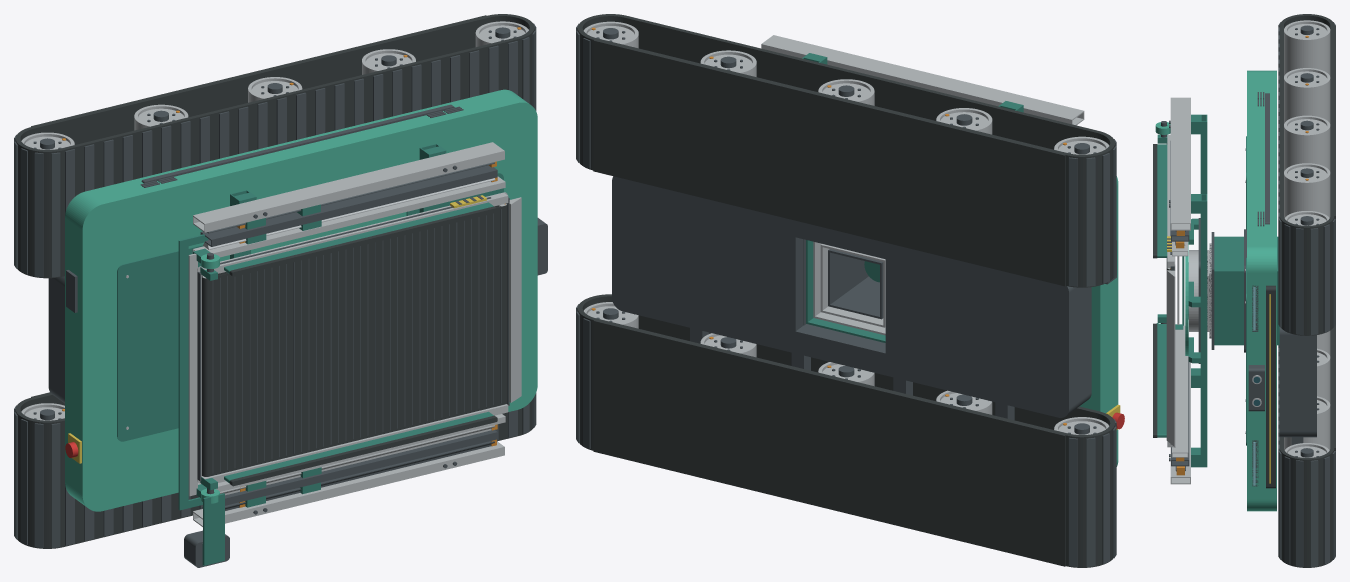
File: bellybot_reference_pose.glb
3 views of the same model, side by side, from view 1: azimuth 30°, elevation 25°; view 2: azimuth 150°, elevation 25°; view 3: azimuth 270°, elevation 25° (orthographic). The views are drawn at different scales.
Parts seen in each view (by area): view 1: tray_belt_loop, teal_body_shell, left_track_belt, left_tread_pads, access_lid_-420, tray_belt_texture, right_tread_pads, fixed_extension_rail_410, right_track_belt, middle_slide_363, fixed_extension_rail_-410, middle_stage_cross_tie (+25 smaller); view 2: left_continuous_floor_shoe, right_continuous_floor_shoe, lower_chassis, left_track_belt, right_track_belt, left_tread_pads, right_tread_pads, fixed_extension_rail_410, teal_body_shell, mast_stage_3, mast_stage_2, mast_outer (+5 smaller); view 3: teal_body_shell, left_track_belt, left_tread_pads, right_tread_pads, lower_chassis, right_track_belt, mast_outer, fixed_extension_rail_410, carrier_lower_crossbeam_275, left_wheel_2_rim, left_wheel_0_rim, left_wheel_1_rim (+30 smaller).
Part boxes in pixels (x1,y1,x2,y2): tray_belt_loop: (202, 203, 507, 476); teal_body_shell: (65, 89, 537, 511); left_track_belt: (15, 14, 534, 278); left_tread_pads: (14, 23, 536, 277); access_lid_-420: (117, 245, 203, 441); tray_belt_texture: (212, 209, 501, 473); right_tread_pads: (14, 393, 536, 547); fixed_extension_rail_410: (193, 142, 504, 232); right_track_belt: (15, 393, 532, 548); middle_slide_363: (200, 165, 497, 246); fixed_extension_rail_-410: (193, 441, 504, 526); middle_stage_cross_tie: (178, 234, 208, 510); left_continuous_floor_shoe: (593, 40, 1065, 286); right_continuous_floor_shoe: (593, 320, 1065, 566); lower_chassis: (612, 176, 1091, 417); left_track_belt: (577, 14, 1115, 287); right_track_belt: (577, 294, 1115, 567); left_tread_pads: (576, 23, 1116, 286); right_tread_pads: (576, 304, 1116, 566); fixed_extension_rail_410: (761, 35, 1084, 125); teal_body_shell: (1079, 176, 1118, 466); mast_stage_3: (828, 249, 883, 319); mast_stage_2: (820, 244, 885, 327); mast_outer: (806, 240, 885, 342); teal_body_shell: (1247, 70, 1276, 511); left_track_belt: (1280, 14, 1334, 335); left_tread_pads: (1278, 22, 1335, 335); right_tread_pads: (1278, 345, 1335, 567); lower_chassis: (1279, 327, 1316, 437); right_track_belt: (1280, 327, 1334, 567); mast_outer: (1214, 236, 1279, 345); fixed_extension_rail_410: (1170, 97, 1190, 230); carrier_lower_crossbeam_275: (1200, 194, 1207, 467); left_wheel_2_rim: (1284, 115, 1330, 171); left_wheel_0_rim: (1284, 20, 1330, 76); left_wheel_1_rim: (1284, 68, 1330, 123).
Size of the model in its own units: 1.49 by 1.1 by 0.535.
